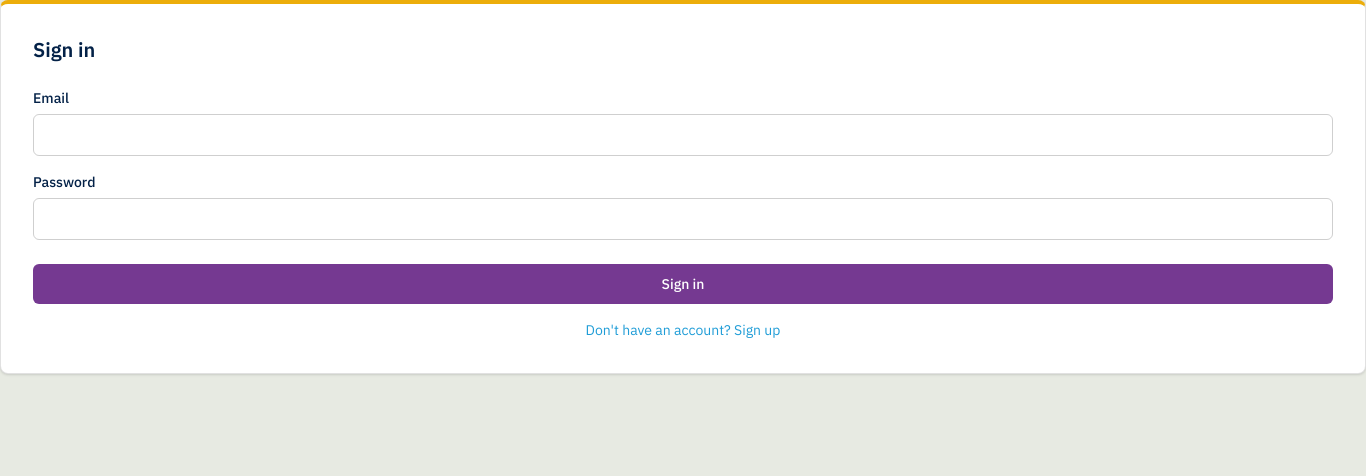
Test: LoginForm › toggles to sign-up mode with a name field
Click the button "Don't have an account? Sign up": (683, 330) [33,320,1333,340]
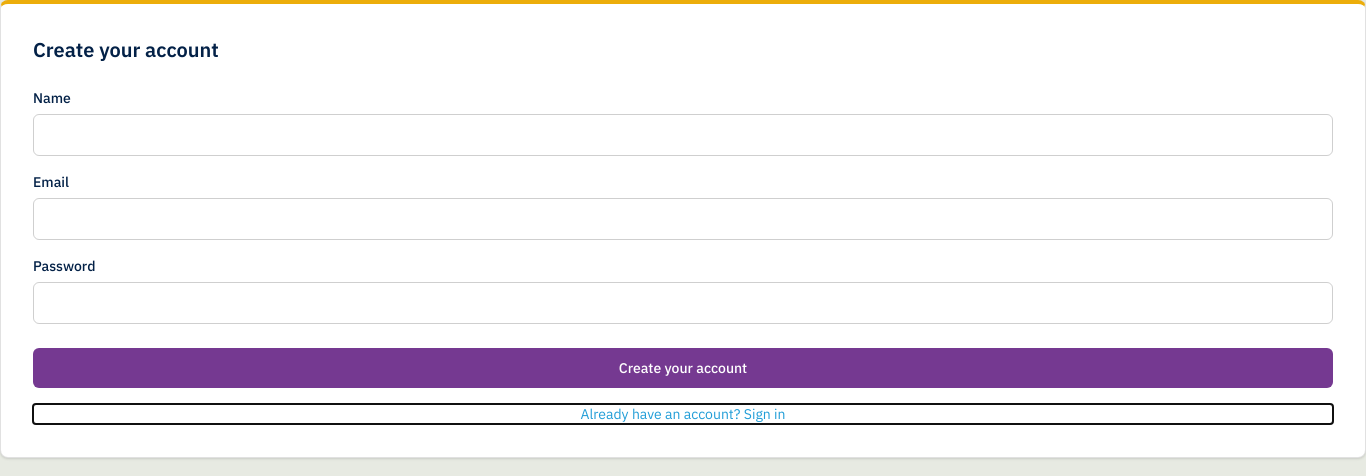
Expected: the field labelled "Name" is shown, [33,114,1333,156]
Result: the heading "Create your account" is shown at [33,36,219,63]
